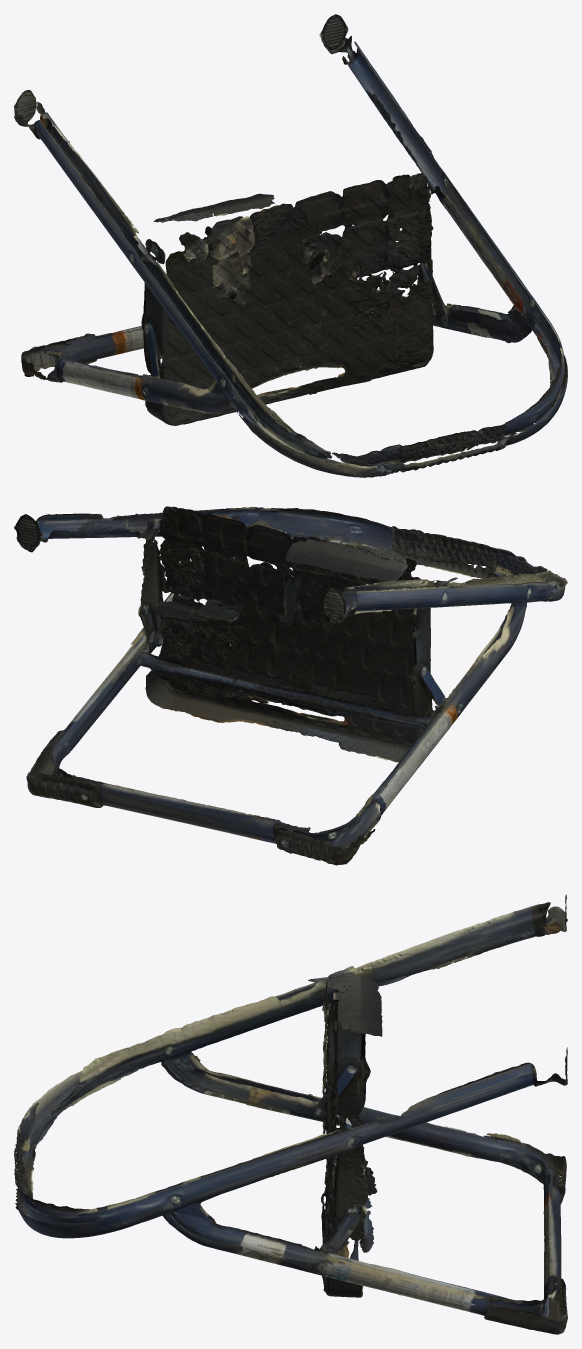
The model's file is step_ladder.glb.
3 views of the same model, one above another, from view 1: azimuth 30°, elevation 25°; view 2: azimuth 150°, elevation 25°; view 3: azimuth 270°, elevation 25° (orthographic). The views are drawn at different scales.
Visible parts, largest first — view 1: stepladder02; view 2: stepladder02; view 3: stepladder02.
Part boxes in pixels (box(x1,y1,x2,y2)): stepladder02: box(14, 14, 567, 477); stepladder02: box(14, 506, 567, 865); stepladder02: box(14, 894, 567, 1334).
Bounding box in the file's own units: 0.4304 × 0.349 × 0.6058.
1 material, 1 textured.
